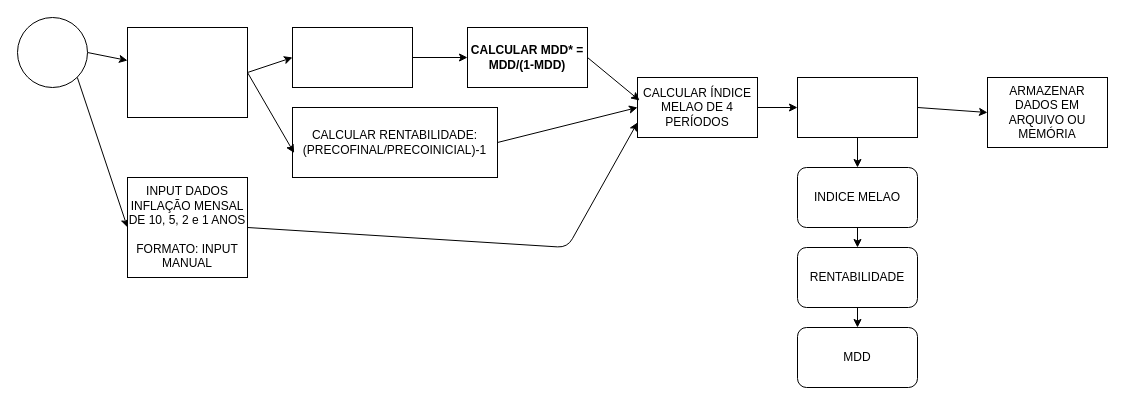
Some shapes in this 1125 by 405 pixel diagram are drawn without their labels. Each missing label, with the centre of its shape:
IDENTIFICAR MDD (MAXIMUM DRAWDOWN): the point at 352,57
INPUT DADOS DE COTAÇÃO DIÁRIO DE 10 ANOS FORMATO: XLSX: the point at 187,72
INÍCIO: the point at 52,52
OUTPUT DE CADA PERÍODO: the point at 857,107
